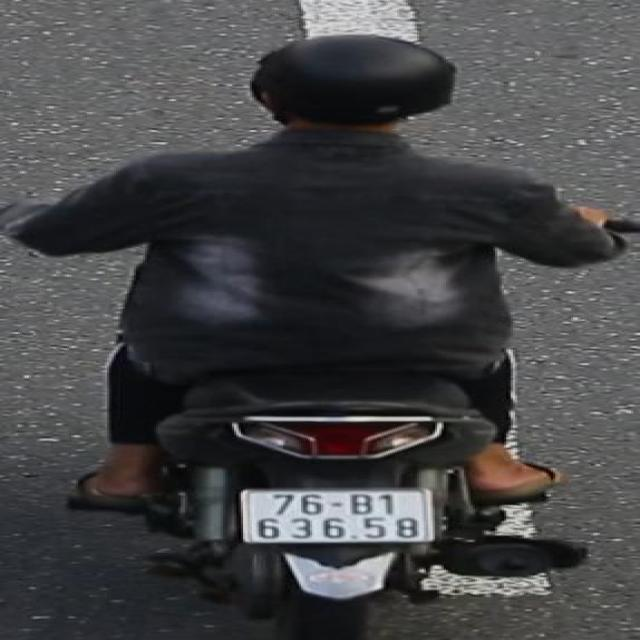LP: (236, 484, 444, 545)
helmet: (237, 31, 470, 167)
